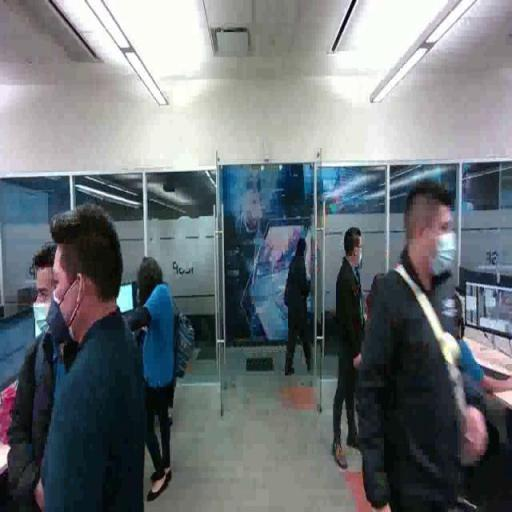person: (362, 179, 483, 512), (40, 206, 147, 512), (12, 236, 79, 512), (324, 219, 367, 469), (136, 255, 177, 499), (283, 230, 316, 379)
